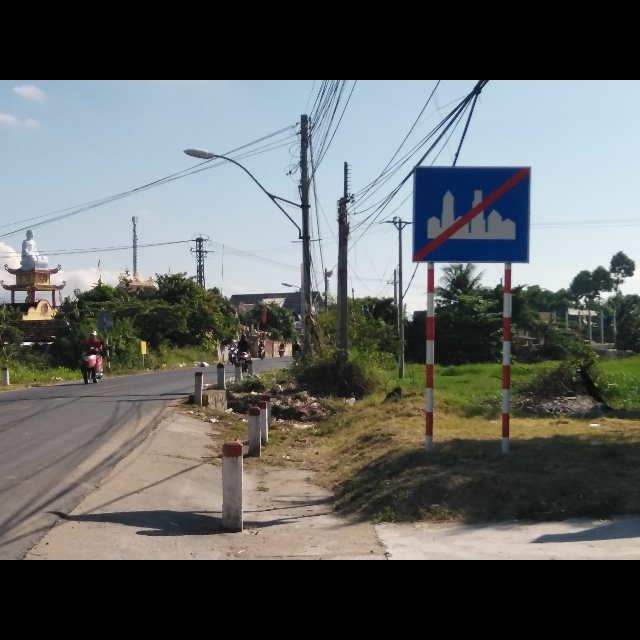Hết khu đông dân cư: (412, 165, 531, 265)
